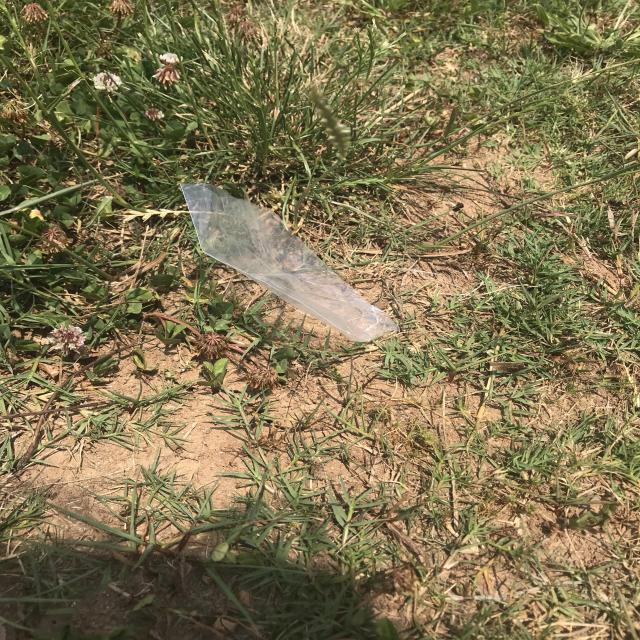litter: (182, 180, 398, 341)
